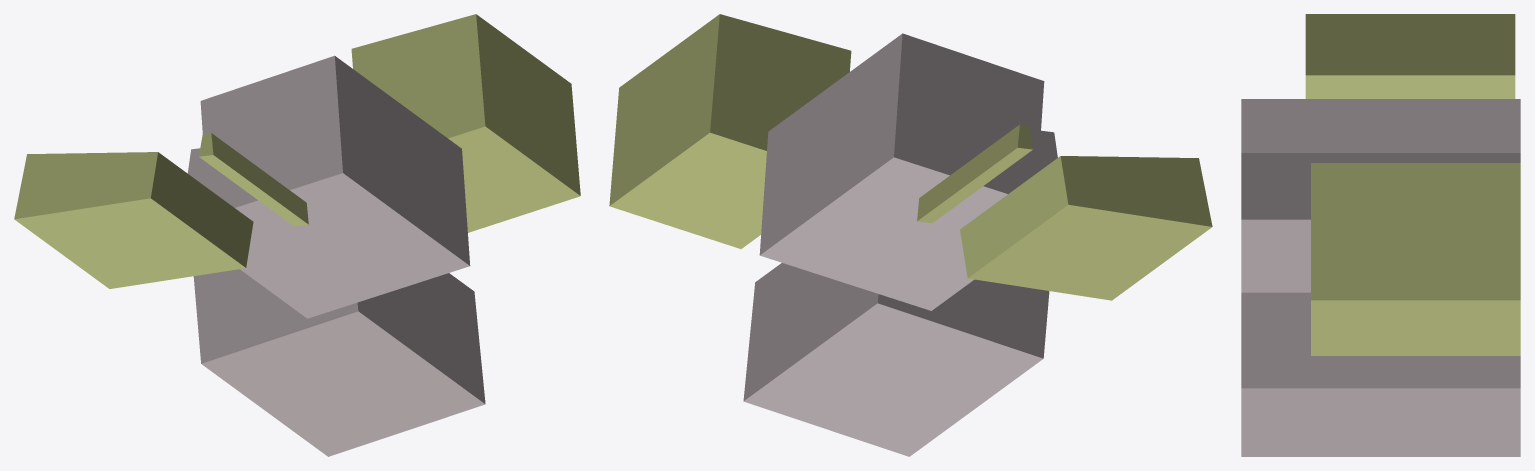
3 views of the same model, side by side, from view 1: azimuth 30°, elevation 25°; view 2: azimuth 150°, elevation 25°; view 3: azimuth 270°, elevation 25° (orthographic). The views are drawn at different scales.
Parts seen in each view (by area): view 1: 0_1_1_3_3_1_1_3_3_3; view 2: 0_1_1_3_3_1_1_3_3_3; view 3: 0_1_1_3_3_1_1_3_3_3.
Boxes of the visible parts, box(x1,y1,x2,y2) form: 0_1_1_3_3_1_1_3_3_3: box(14, 14, 580, 456); 0_1_1_3_3_1_1_3_3_3: box(609, 14, 1212, 456); 0_1_1_3_3_1_1_3_3_3: box(1241, 14, 1520, 456).
Size of the model in its own units: 25.8 by 14.72 by 12.
